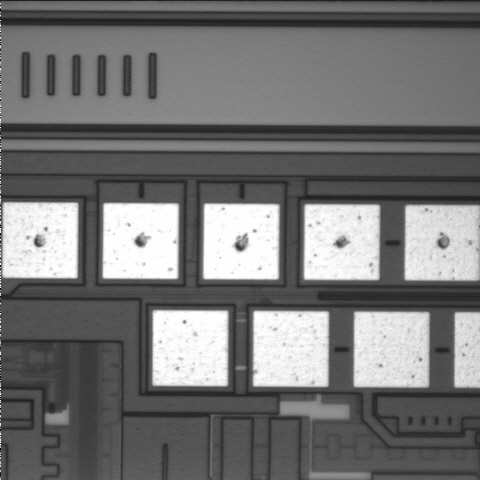pad: (2, 202, 78, 278), (103, 203, 179, 279), (203, 204, 279, 280), (304, 204, 380, 280), (152, 310, 228, 386), (253, 311, 329, 387), (354, 312, 429, 387)
